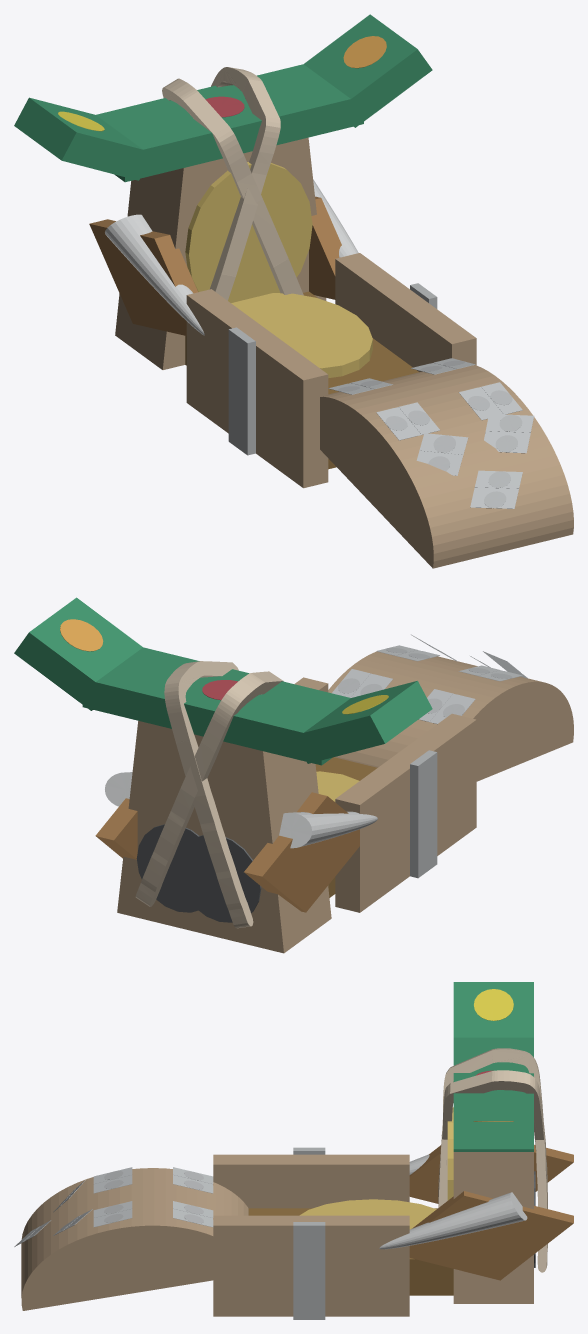
Rendered from POGOvip-2.glb.
3 renders of one model, top to bottom at view 1: azimuth 30°, elevation 25°; view 2: azimuth 150°, elevation 25°; view 3: azimuth 270°, elevation 25°, orthographic. The views are drawn at different scales.
Visible parts, largest first — view 1: Mesh_Mesh_head_geo.001_lambert2SG.001; view 2: Mesh_Mesh_head_geo.001_lambert2SG.001; view 3: Mesh_Mesh_head_geo.001_lambert2SG.001.
Part boxes in pixels (box(x1,y1,x2,y2)): Mesh_Mesh_head_geo.001_lambert2SG.001: box(14, 14, 573, 568); Mesh_Mesh_head_geo.001_lambert2SG.001: box(14, 597, 573, 953); Mesh_Mesh_head_geo.001_lambert2SG.001: box(14, 982, 573, 1319).
Bounding box in the file's own units: 9 × 6.34 × 13.97.
